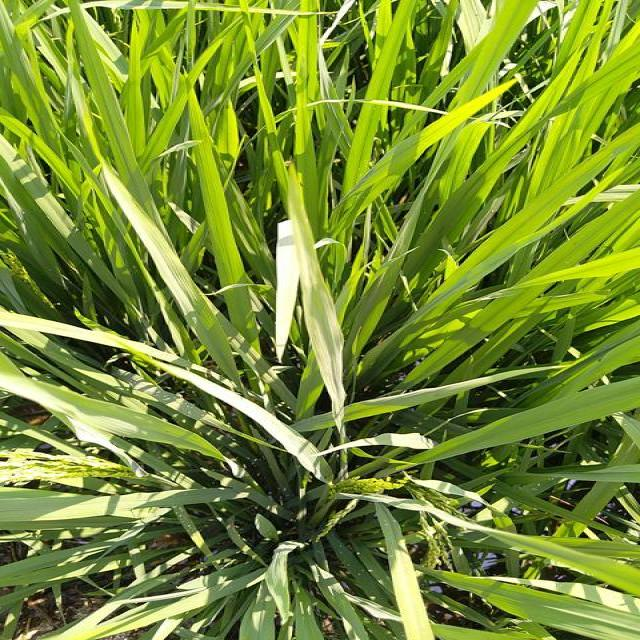Rice: (352, 124, 640, 385), (74, 164, 244, 385), (348, 384, 640, 474), (185, 95, 261, 345), (0, 384, 227, 465), (341, 1, 422, 194), (425, 572, 640, 640), (66, 0, 138, 166), (441, 1, 538, 123), (508, 35, 640, 124), (0, 0, 64, 161), (302, 231, 348, 436), (0, 488, 243, 521), (378, 505, 430, 640), (294, 0, 324, 224)
